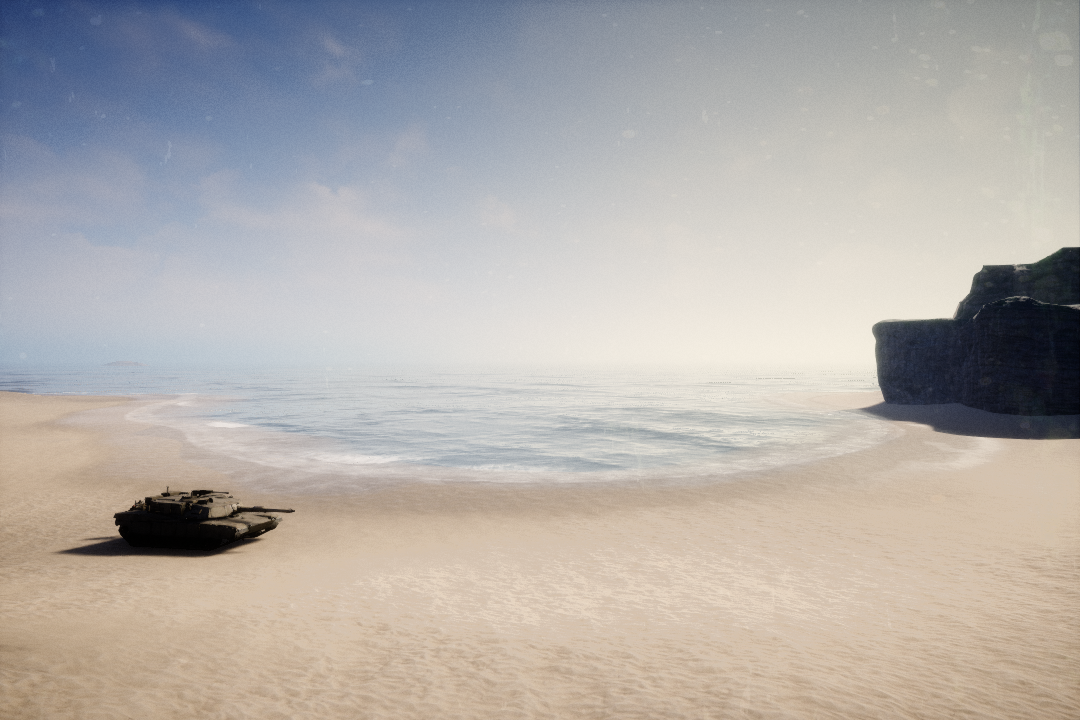tank: (107, 487, 300, 548)
